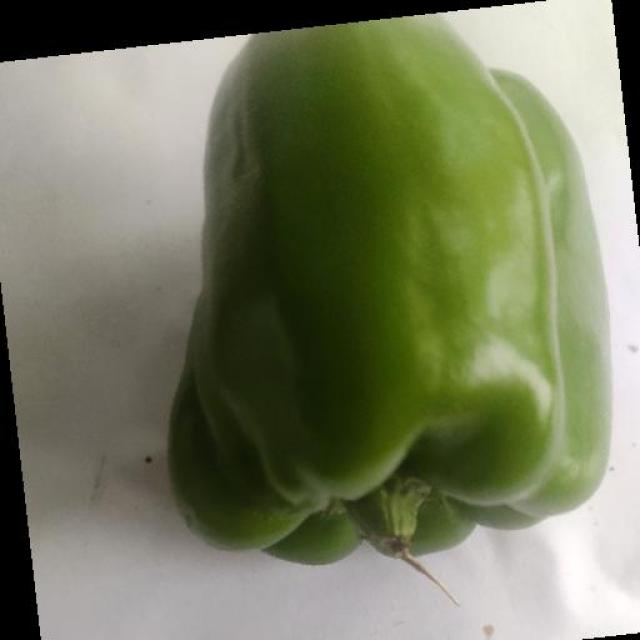Stale_Capsicum: (164, 50, 429, 537)
